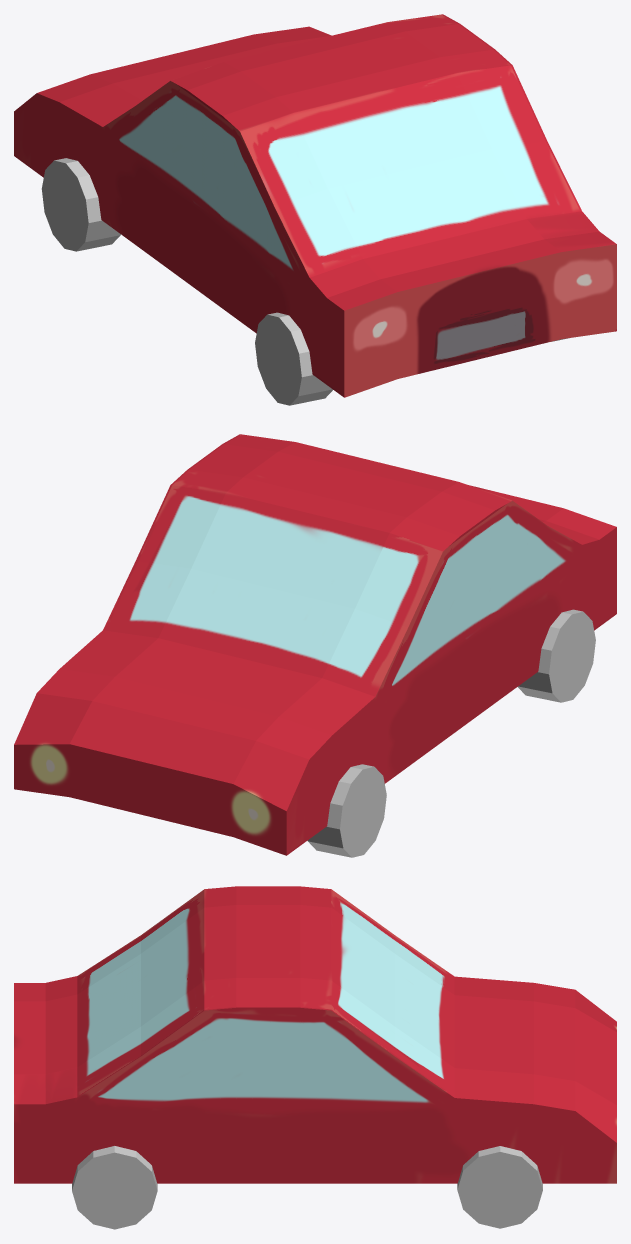
Rendered from samochód.fbx.
The picture shows the model from 3 angles, top to bottom: view 1: azimuth 30°, elevation 25°; view 2: azimuth 150°, elevation 25°; view 3: azimuth 270°, elevation 25°; orthographic projection. The views are drawn at different scales.
Visible parts, largest first — view 1: Kostka, Walec.002, Walec.001; view 2: Kostka, Walec.002, Walec.001; view 3: Kostka, Walec.004, Walec.003.
Boxes of the visible parts, x1,y1,x2,y2 form: Kostka: (14,14,616,397); Walec.002: (41,158,120,251); Walec.001: (255,312,332,405); Kostka: (14,434,616,855); Walec.002: (307,764,386,857); Walec.001: (518,609,595,702); Kostka: (14,886,616,1183); Walec.004: (72,1146,157,1229); Walec.003: (457,1146,542,1228).
Size of the model in its own units: 319 by 246 by 608.
